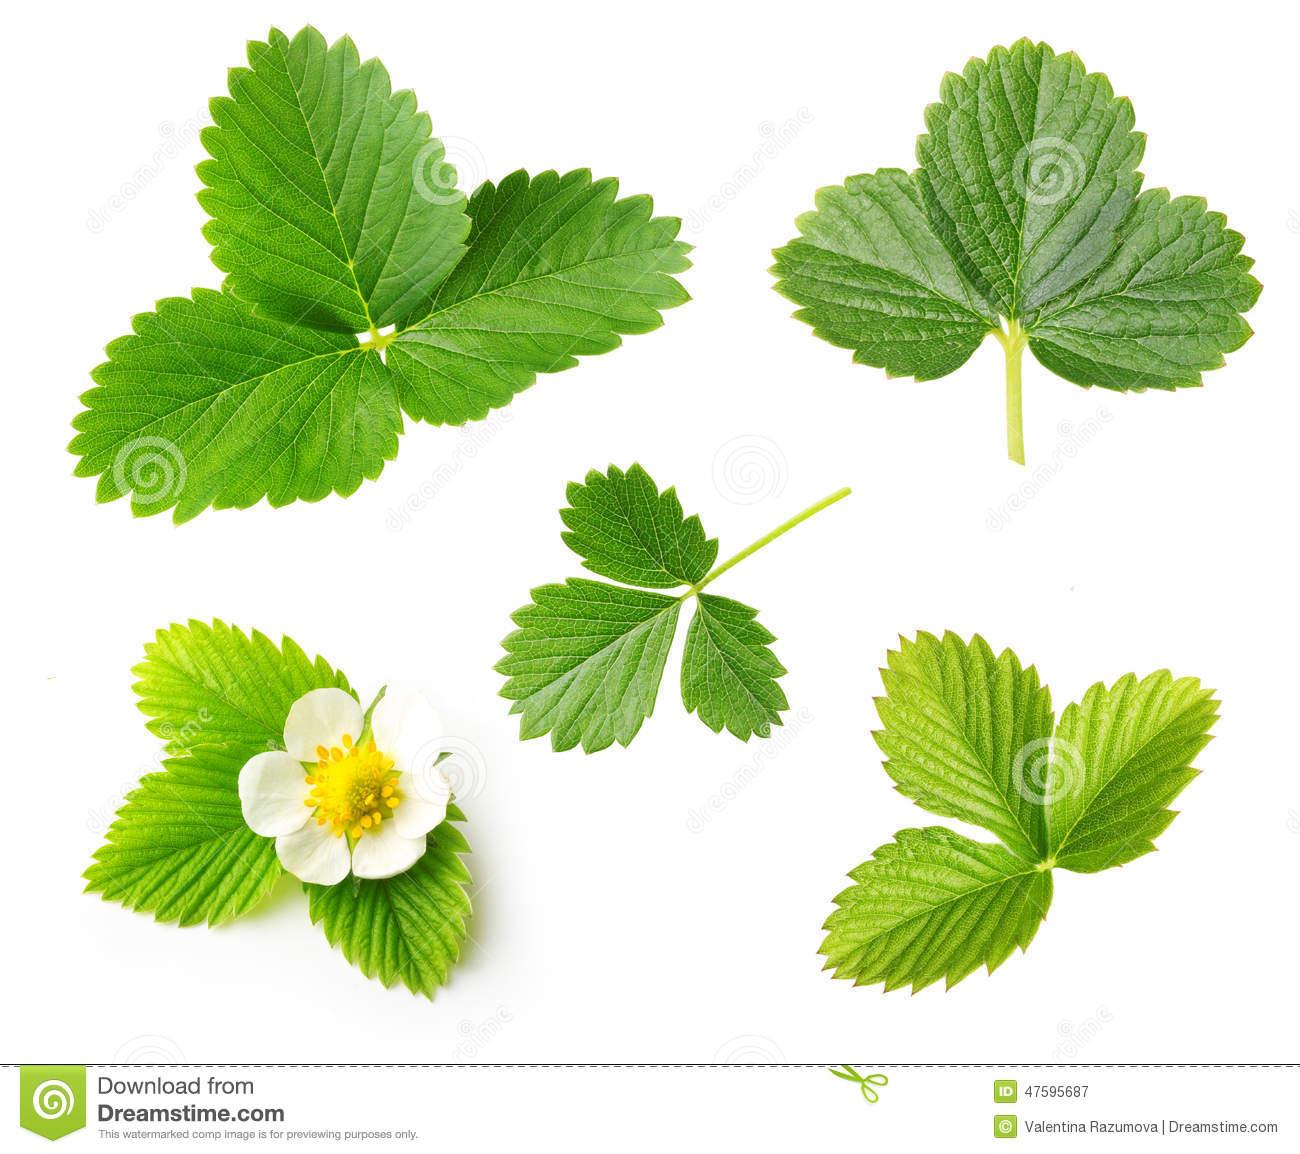Strawberry leaf: (382, 139, 717, 439), (48, 257, 416, 528), (192, 10, 475, 334), (915, 35, 1144, 321), (995, 169, 1279, 385), (761, 162, 1018, 388), (785, 813, 1067, 1003), (74, 739, 325, 933), (864, 636, 1076, 855), (1023, 662, 1230, 879), (489, 567, 720, 754), (285, 788, 485, 1001), (123, 620, 377, 778), (548, 456, 710, 600), (669, 587, 802, 754)
